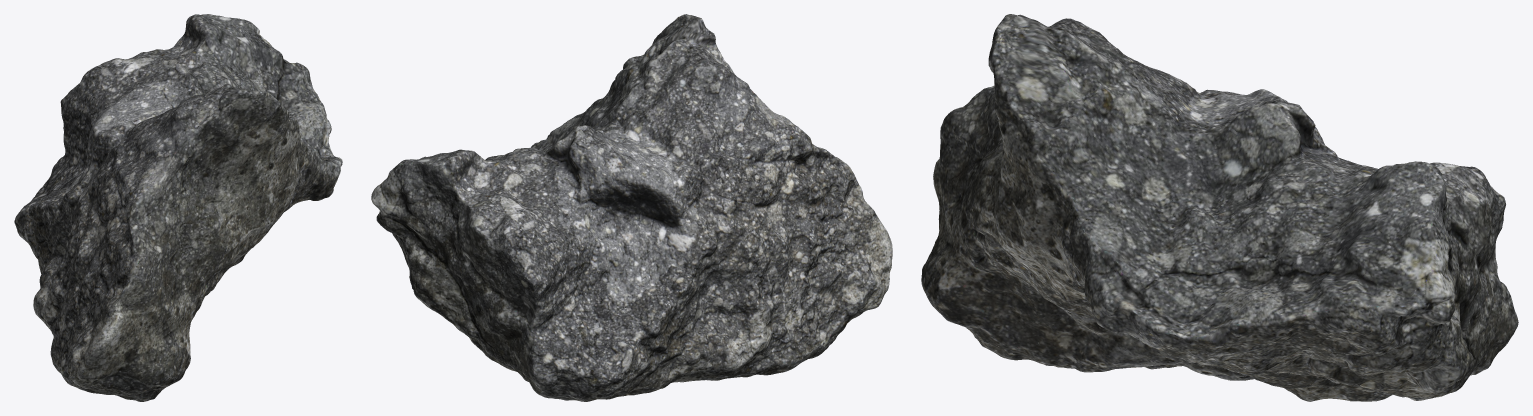
Rendered from Rock2.glb.
3 views of the same model, side by side, from view 1: azimuth 30°, elevation 25°; view 2: azimuth 150°, elevation 25°; view 3: azimuth 270°, elevation 25° (orthographic). The views are drawn at different scales.
Visible parts, largest first — view 1: Object_2; view 2: Object_2; view 3: Object_2.
Boxes of the visible parts, box(x1,y1,x2,y2) form: Object_2: box(14, 14, 342, 401); Object_2: box(371, 14, 892, 401); Object_2: box(921, 14, 1518, 401).
Size of the model in its own units: 0.0313 by 0.0244 by 0.0313.
1 material, 1 textured.
